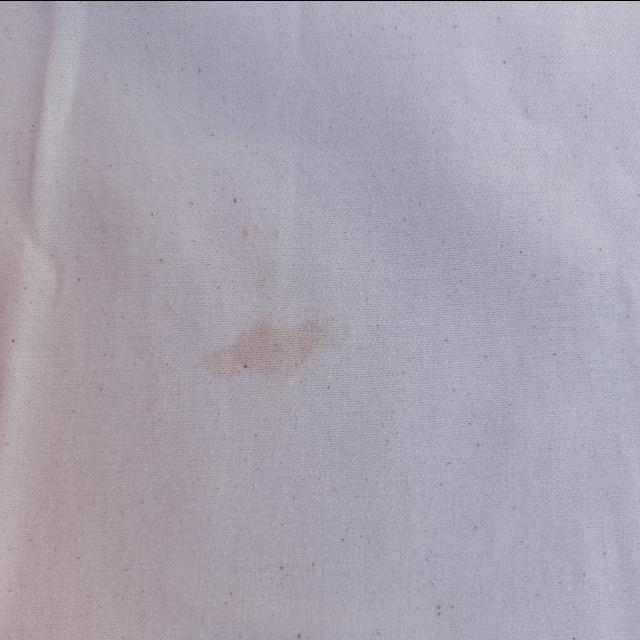taaaches: (195, 308, 344, 400)
